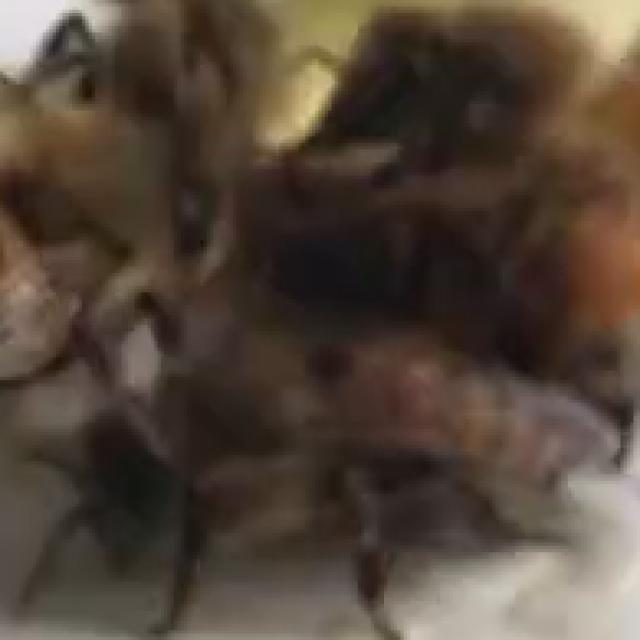honeybee: (42, 346, 640, 594), (226, 157, 640, 415), (311, 0, 640, 173), (40, 0, 278, 136)
